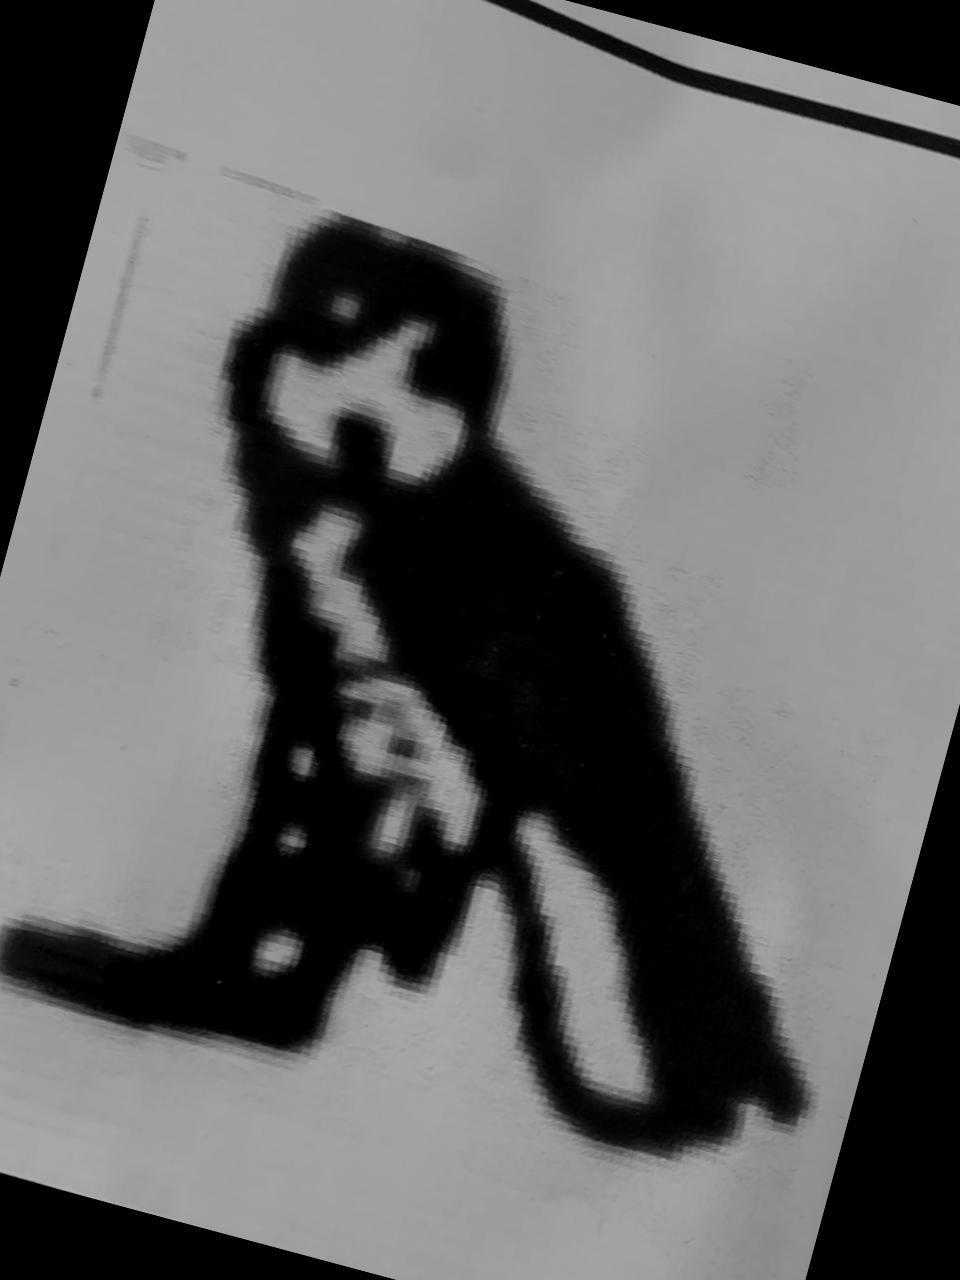Owl: (6, 164, 826, 1166)
